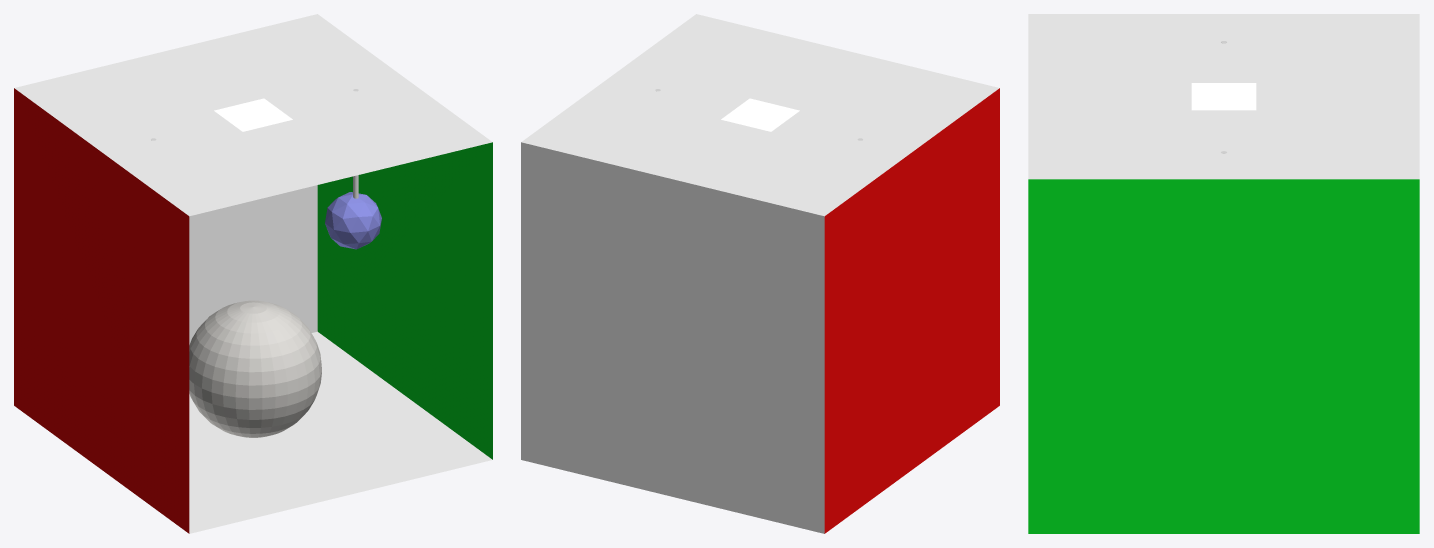
File: spheres.glb
The picture shows the model from 3 angles, left to right: view 1: azimuth 30°, elevation 25°; view 2: azimuth 150°, elevation 25°; view 3: azimuth 270°, elevation 25°; orthographic projection. The views are drawn at different scales.
Parts seen in each view (by area): view 1: Cube.001, Sphere, Cylinder.002; view 2: Cube.001; view 3: Cube.001.
Boxes of the visible parts, <box> form: Cube.001: <box>14,14,492,533</box>; Sphere: <box>189,300,321,437</box>; Cylinder.002: <box>325,192,381,249</box>; Cube.001: <box>521,14,999,533</box>; Cube.001: <box>1028,14,1419,533</box>.
Size of the model in its own units: 12 by 12 by 12.
